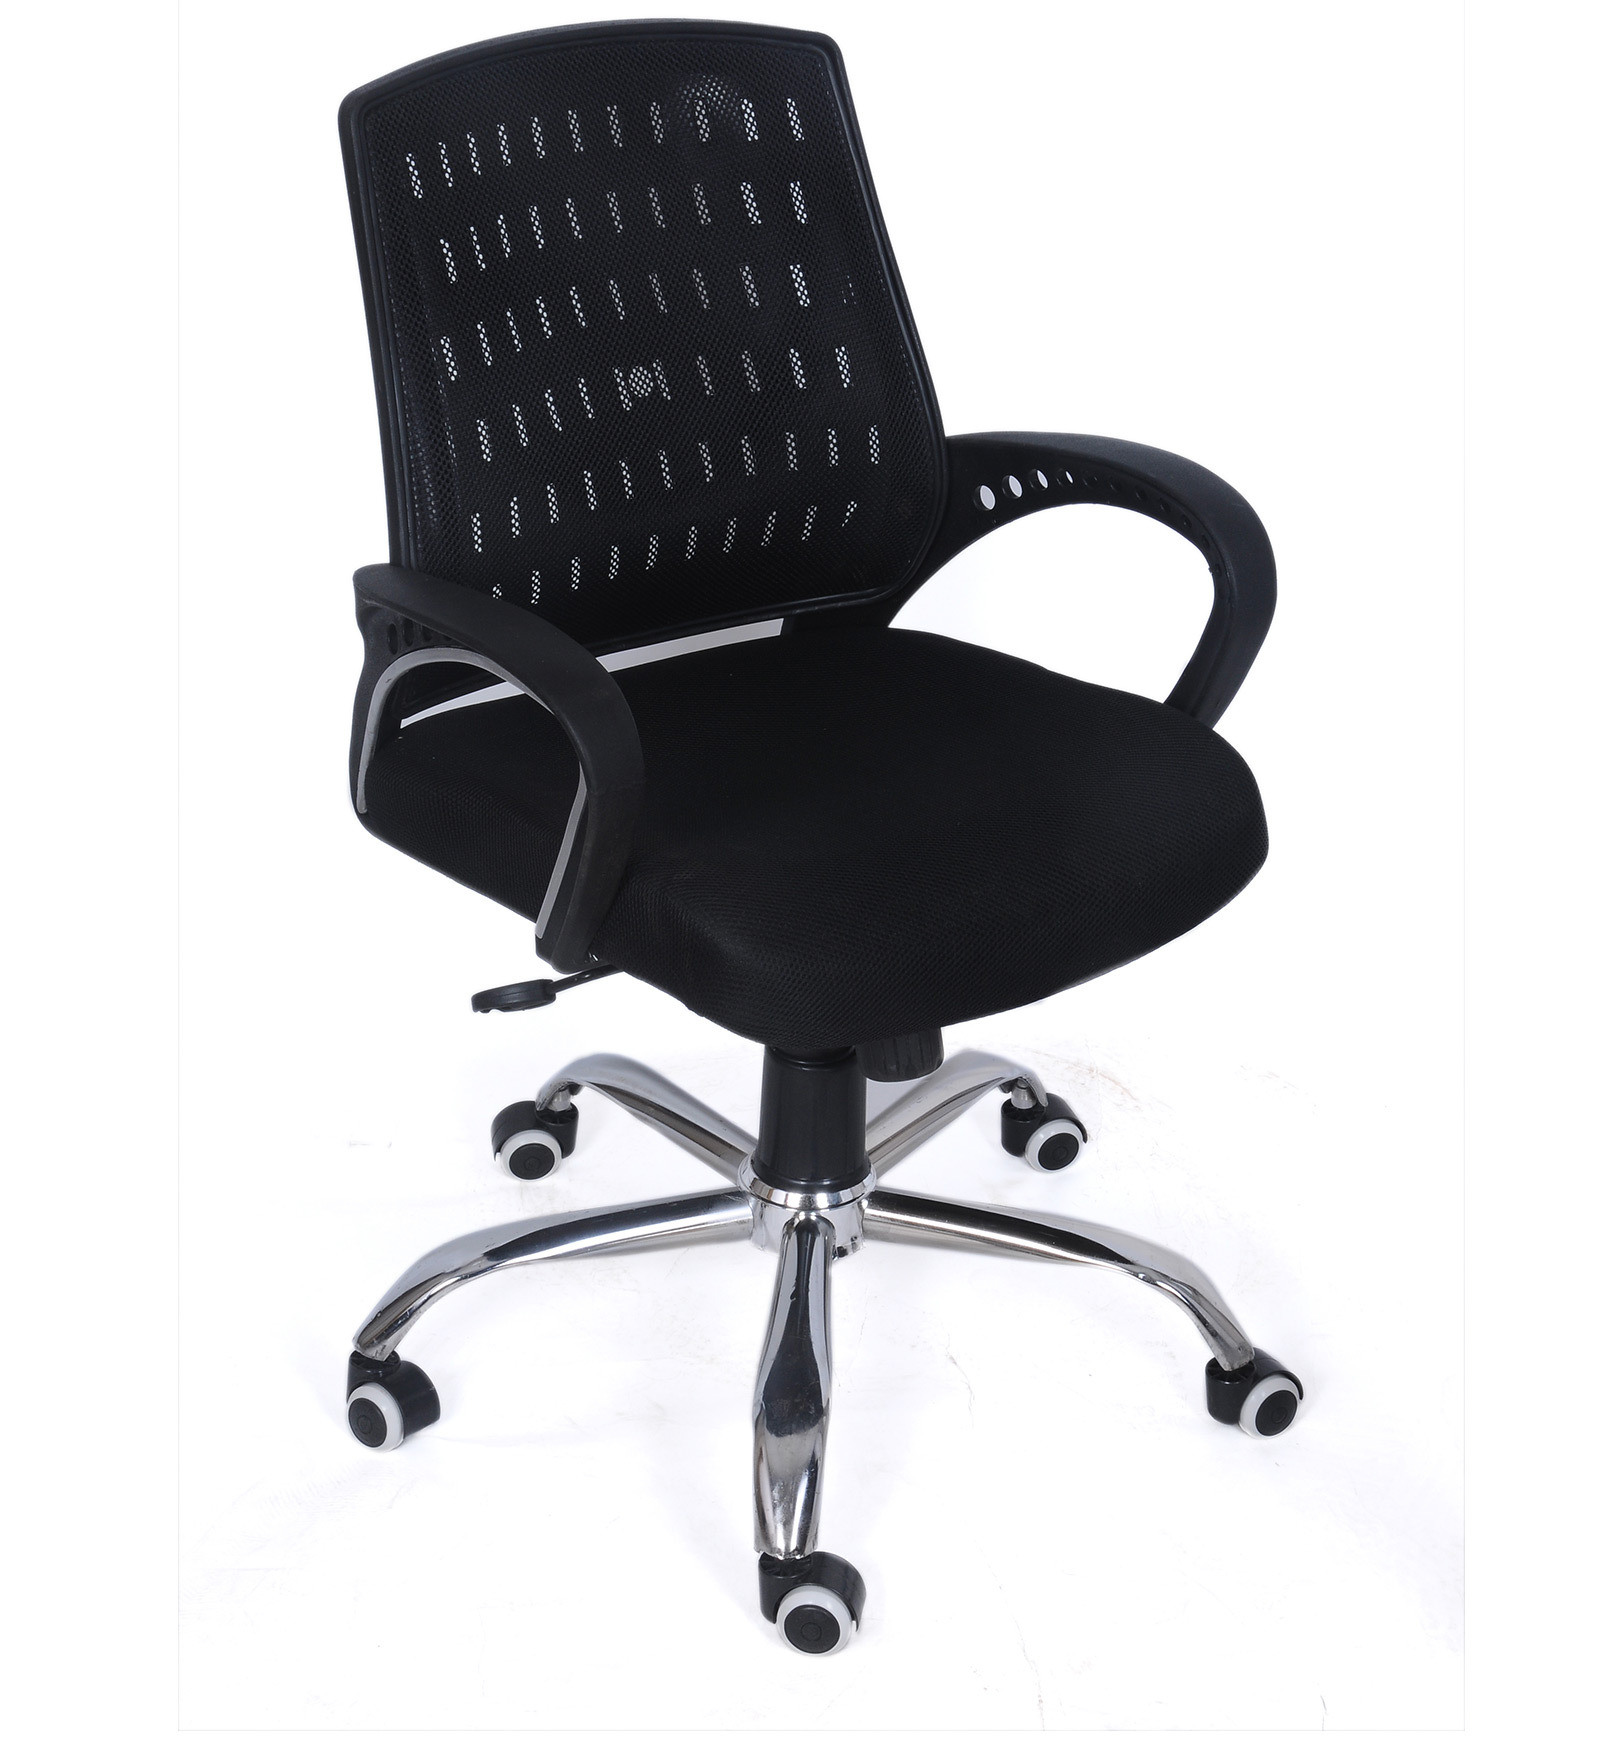Briny Mid Back Ergonomic Chair By Furniease: (219, 9, 1379, 1663)
